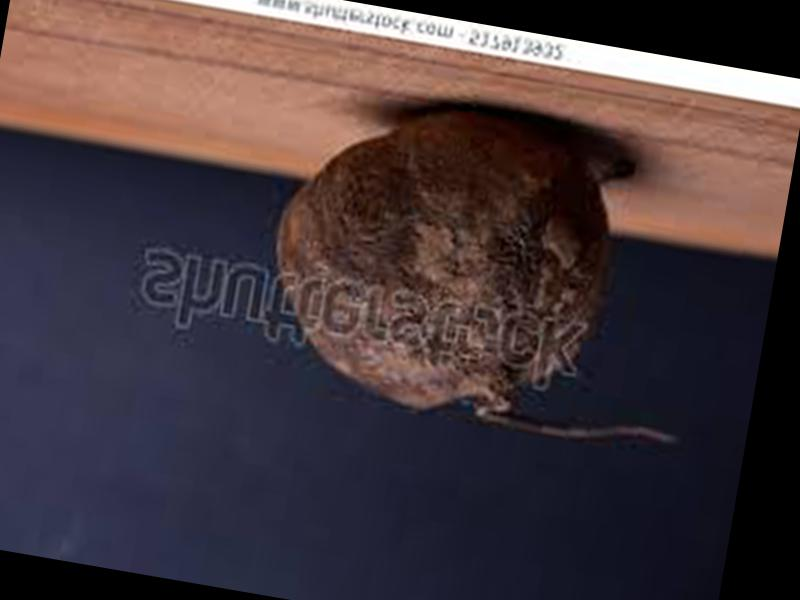Beet: (253, 83, 731, 459)
